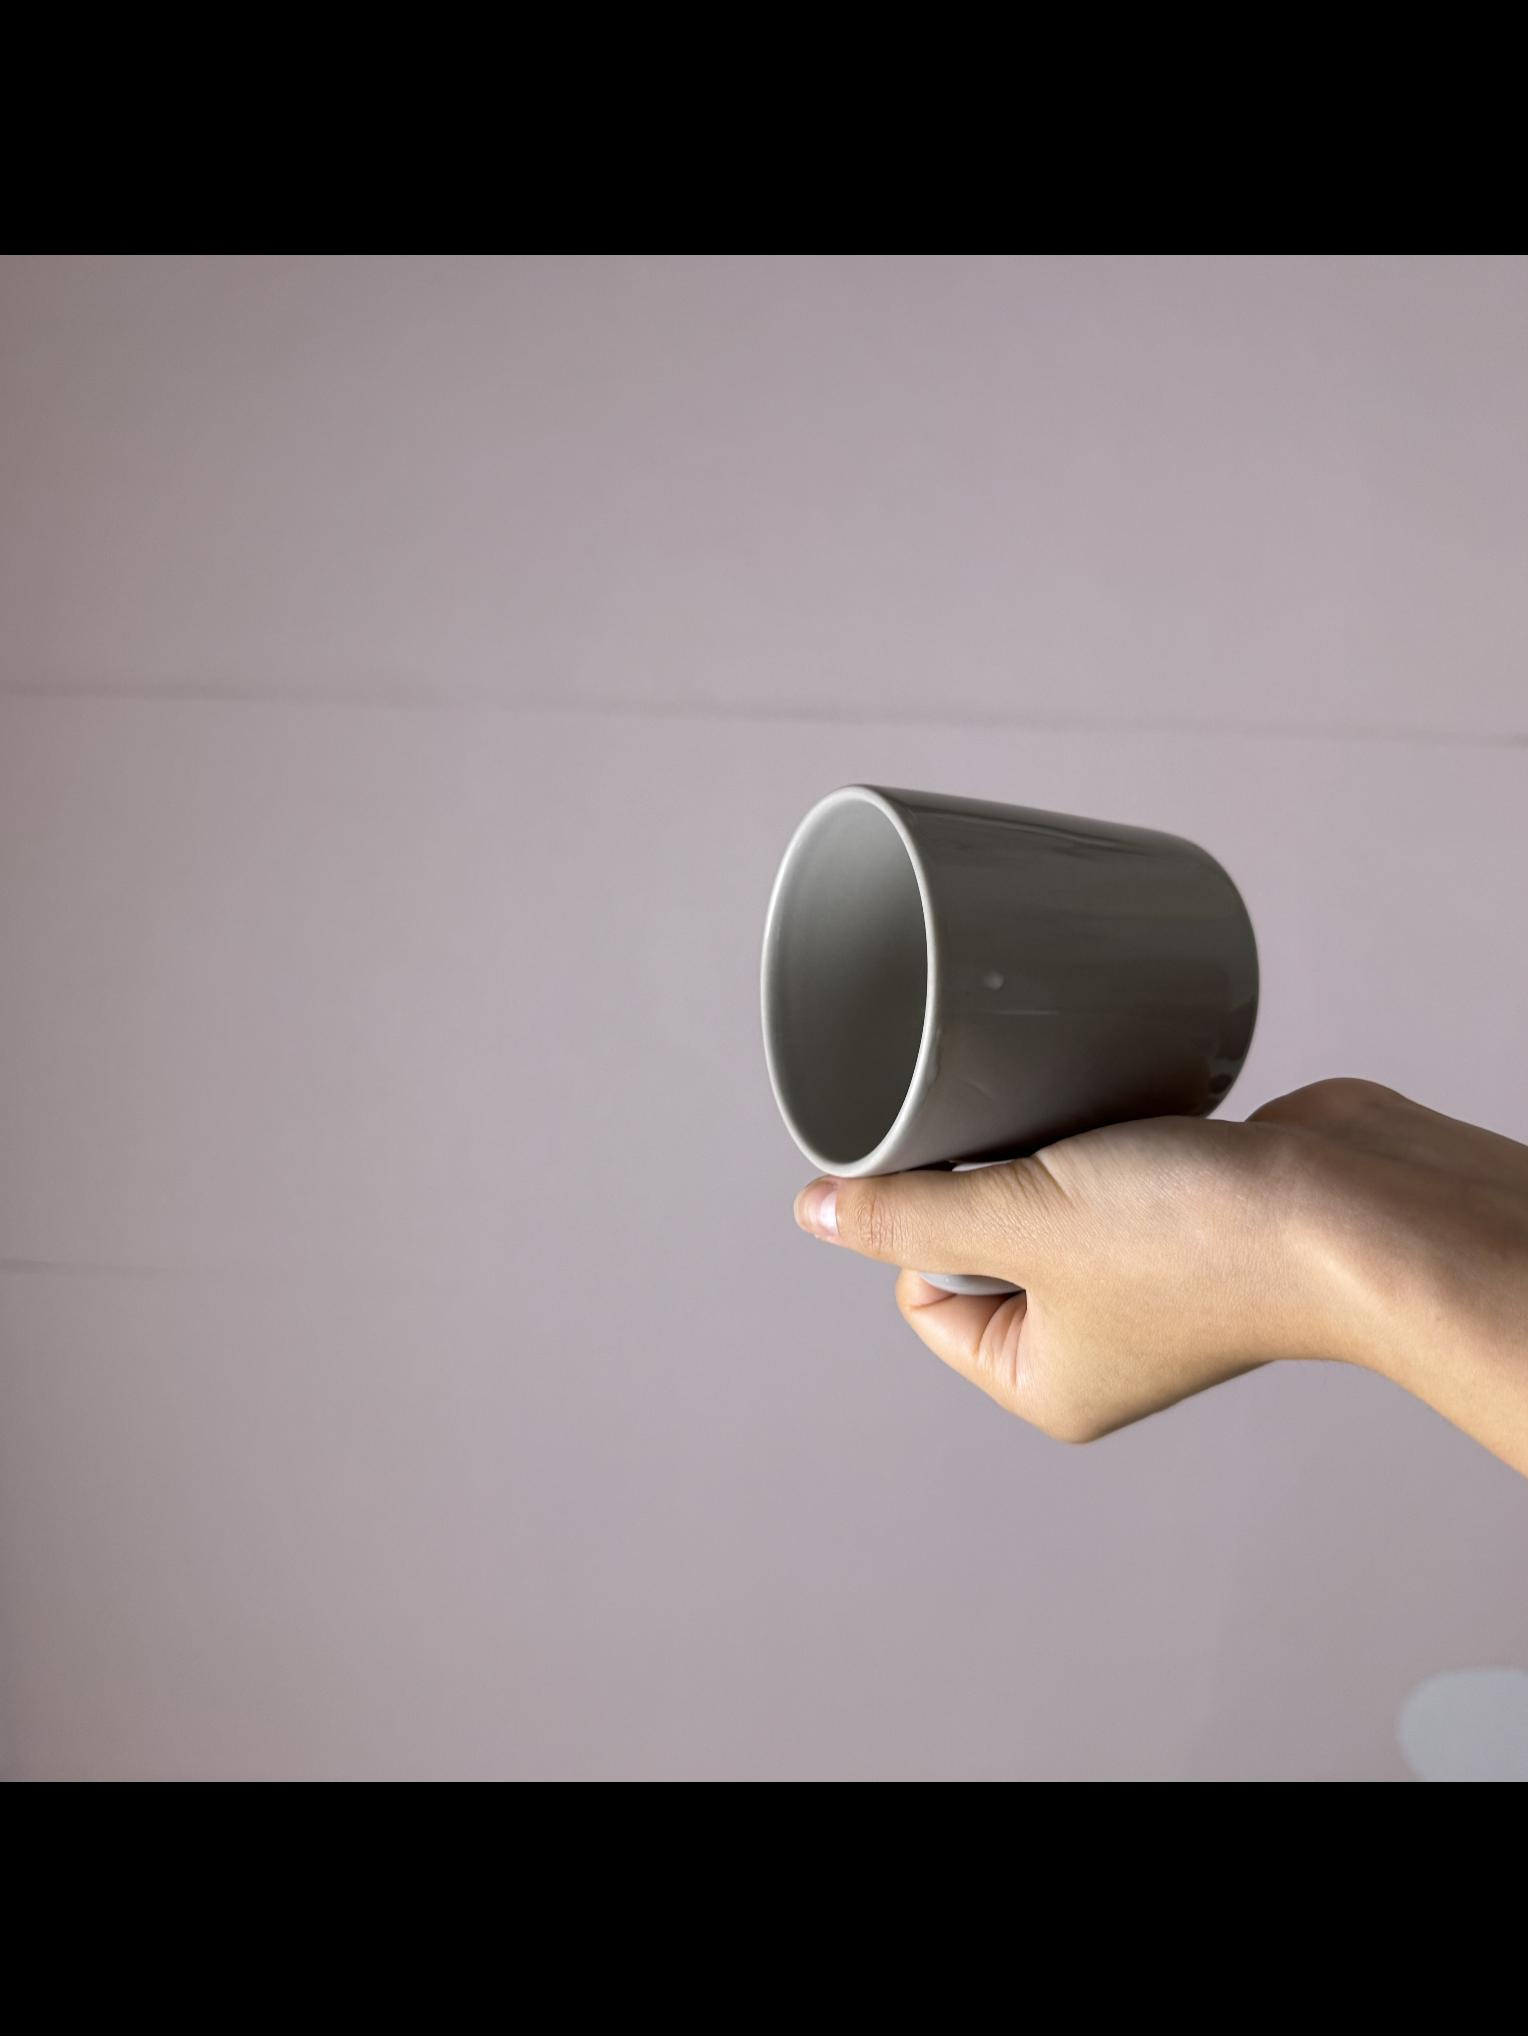cup: (746, 769, 1485, 1449)
